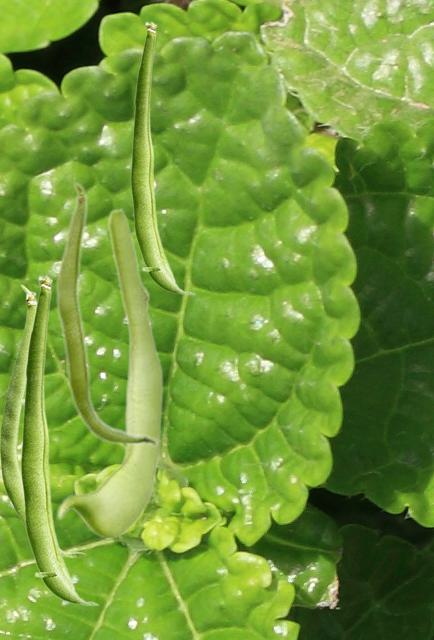french_bean: (56, 207, 162, 537), (54, 181, 159, 447), (20, 275, 99, 605), (0, 284, 85, 557), (130, 21, 195, 294)
